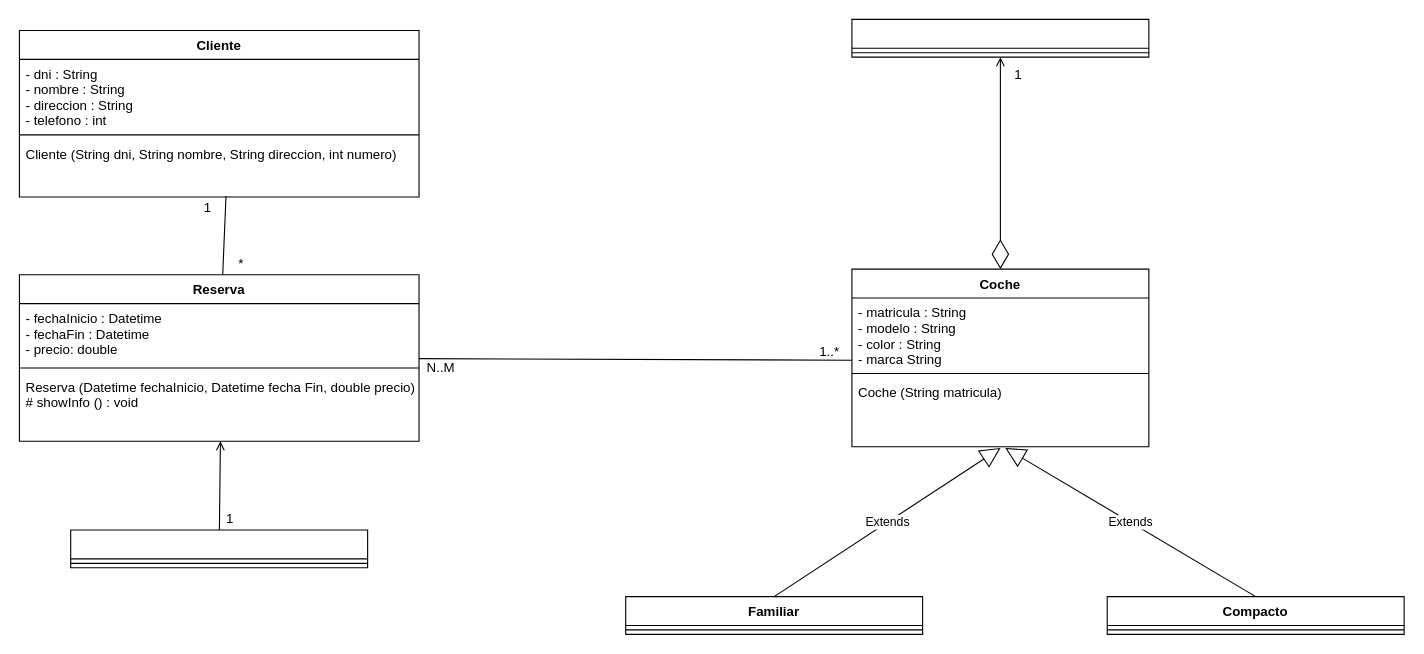
Some shapes in this 1424 by 654 pixel diagram are drawn without their labels. The centre of each missing label's shape, as x and y in pixels:
"Agencia" goes at point 219,548.
"Garaje" goes at point 1000,37.
